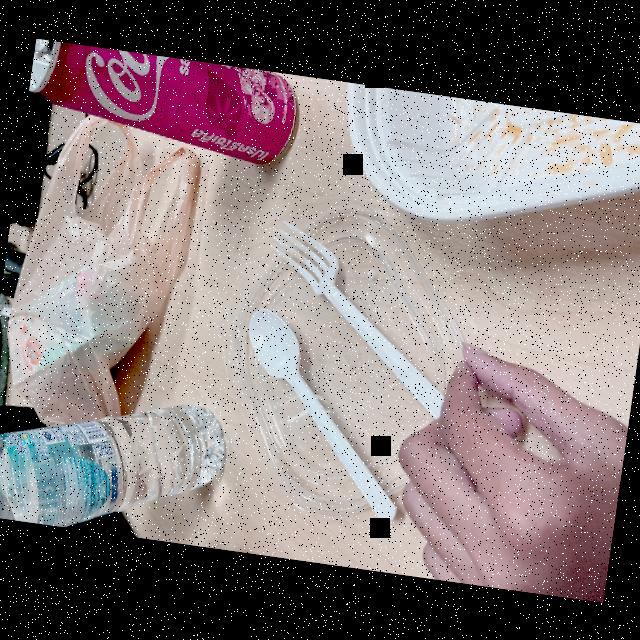plastic_spoon: (243, 215, 484, 428), (220, 294, 427, 526)
